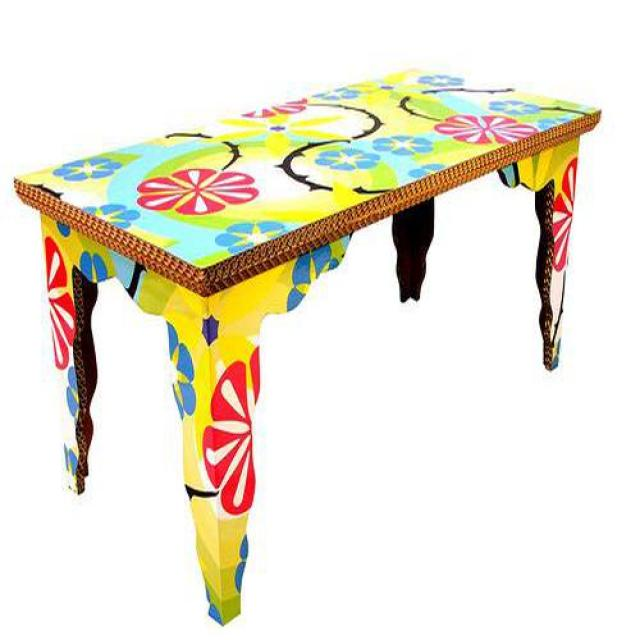table: (12, 68, 602, 628)
